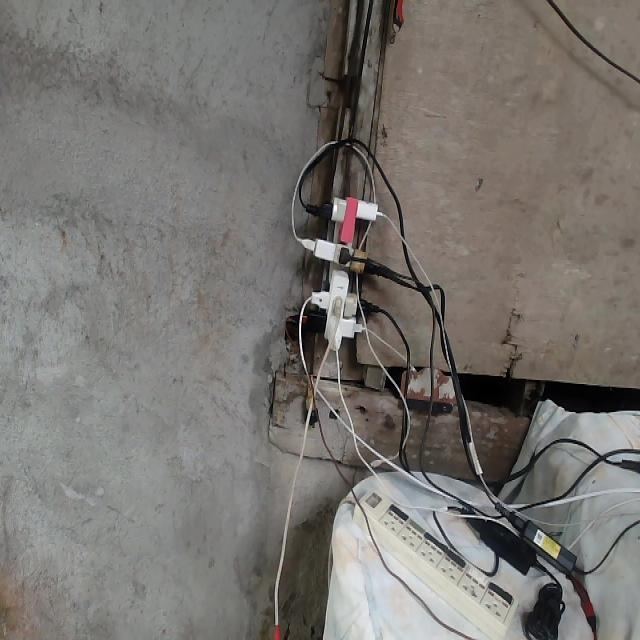-: (301, 192, 381, 351)
